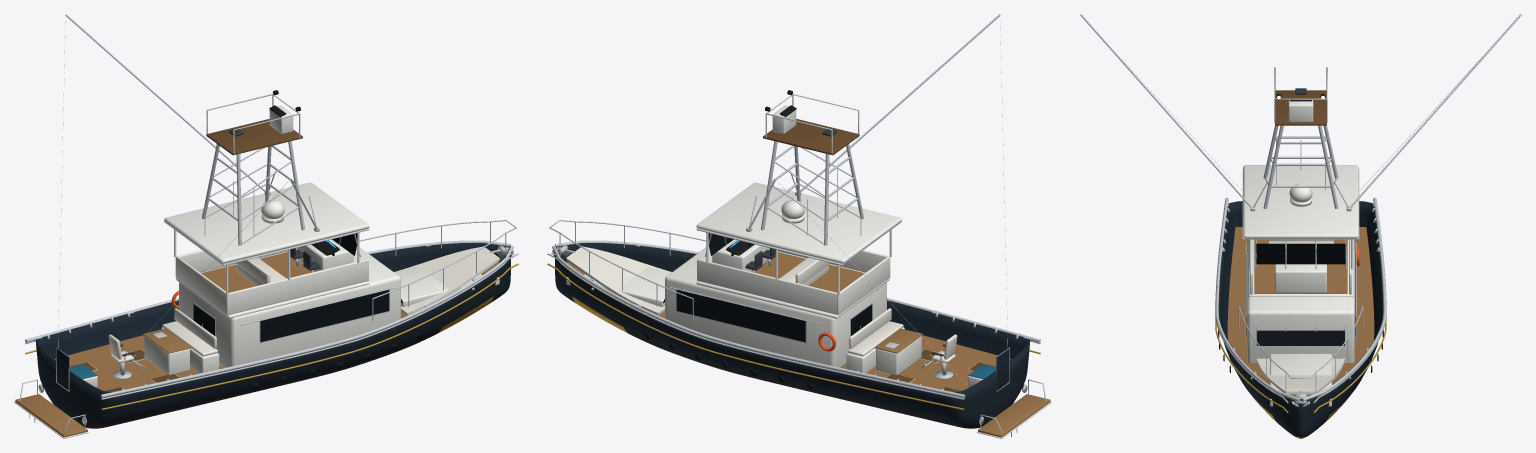
Rendered from yacht.glb.
3 renders of one model, left to right at view 1: azimuth 30°, elevation 25°; view 2: azimuth 150°, elevation 25°; view 3: azimuth 270°, elevation 25°, orthographic. The views are drawn at different scales.
Parts seen in each view (by area): view 1: hull, hardtop, salon, fly_coaming.001, salon_window.001, deck, sunpad, gunwale.001, tower_deck, fly_floor, swim_platform, sunpad_base (+15 smaller); view 2: hull, hardtop, salon, fly_coaming, salon_window, deck, sunpad, gunwale, tower_deck, fly_floor, swim_platform, sunpad_base (+15 smaller); view 3: hardtop, hull, salon, deck, fly_helm, fly_floor, sunpad_base, sunpad, salon_front_glass, tower_deck, gunwale, gunwale.001 (+7 smaller).
Part boxes in pixels (<box>): hull: <box>35,243,510,428</box>; hardtop: <box>164,182,369,263</box>; salon: <box>179,239,400,367</box>; fly_coaming.001: <box>228,259,368,314</box>; salon_window.001: <box>260,290,389,342</box>; deck: <box>54,262,499,390</box>; sunpad: <box>394,246,499,315</box>; gunwale.001: <box>100,245,513,397</box>; tower_deck: <box>206,119,302,155</box>; fly_floor: <box>201,250,310,292</box>; swim_platform: <box>15,394,87,437</box>; sunpad_base: <box>395,267,499,306</box>; hull: <box>555,243,1030,428</box>; hardtop: <box>696,182,901,263</box>; salon: <box>665,239,886,367</box>; fly_coaming: <box>697,259,837,314</box>; salon_window: <box>676,290,805,342</box>; deck: <box>566,262,1011,390</box>; sunpad: <box>566,246,671,315</box>; gunwale: <box>552,245,965,397</box>; tower_deck: <box>763,119,859,155</box>; fly_floor: <box>755,250,864,292</box>; swim_platform: <box>978,394,1050,437</box>; sunpad_base: <box>566,267,670,306</box>; hardtop: <box>1243,165,1358,238</box>; hull: <box>1218,201,1383,438</box>; salon: <box>1247,239,1354,362</box>; deck: <box>1227,227,1374,396</box>; fly_helm: <box>1275,263,1326,293</box>; fly_floor: <box>1254,239,1347,293</box>; sunpad_base: <box>1270,353,1331,406</box>; sunpad: <box>1256,358,1345,394</box>; salon_front_glass: <box>1257,330,1344,345</box>; tower_deck: <box>1275,90,1326,125</box>; gunwale: <box>1301,197,1386,401</box>; gunwale.001: <box>1215,197,1300,401</box>.
Size of the model in its own units: 19.47 by 11.82 by 16.05.
